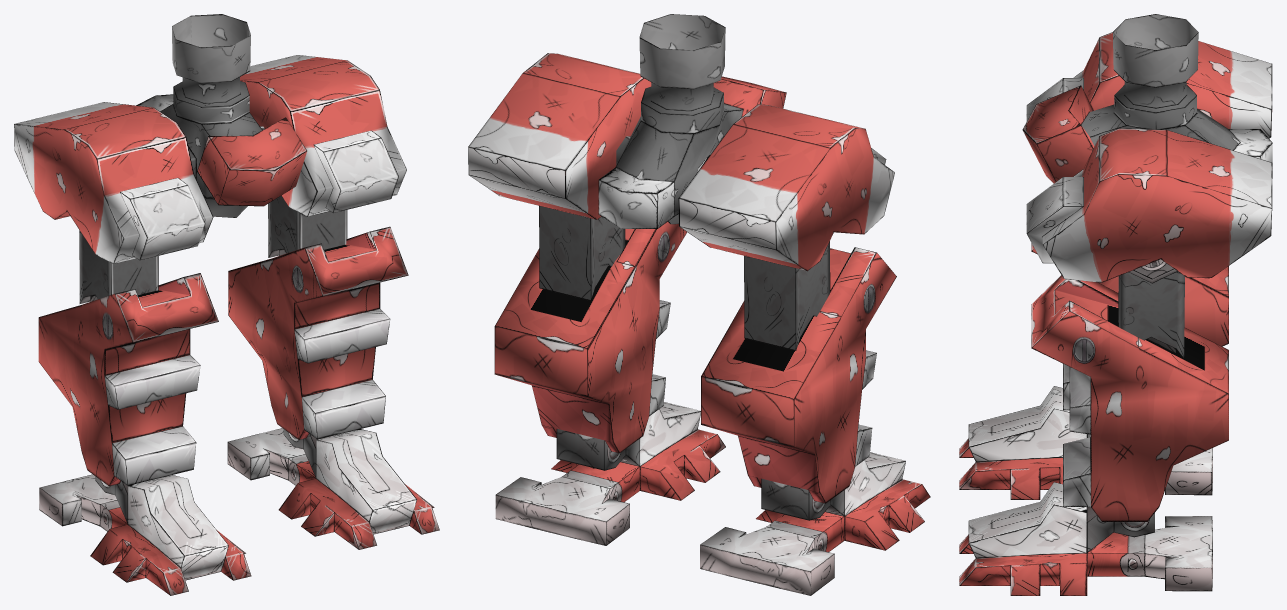
Rendered from P1MechWaistLegs_V1.fbx.
3 renders of one model, left to right at view 1: azimuth 30°, elevation 25°; view 2: azimuth 150°, elevation 25°; view 3: azimuth 270°, elevation 25°, orthographic. The views are drawn at different scales.
Parts seen in each view (by area): view 1: LLeg2; view 2: LLeg2; view 3: LLeg2.
Part boxes in pixels (<box>): LLeg2: <box>14,14,439,595</box>; LLeg2: <box>468,14,930,595</box>; LLeg2: <box>959,14,1272,595</box>.
Bounding box in the file's own units: 2 × 2.88 × 1.68.
